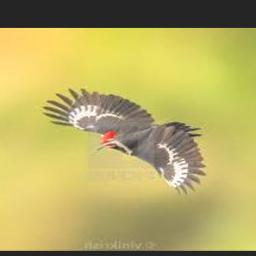Woodpecker: (42, 88, 207, 195)
